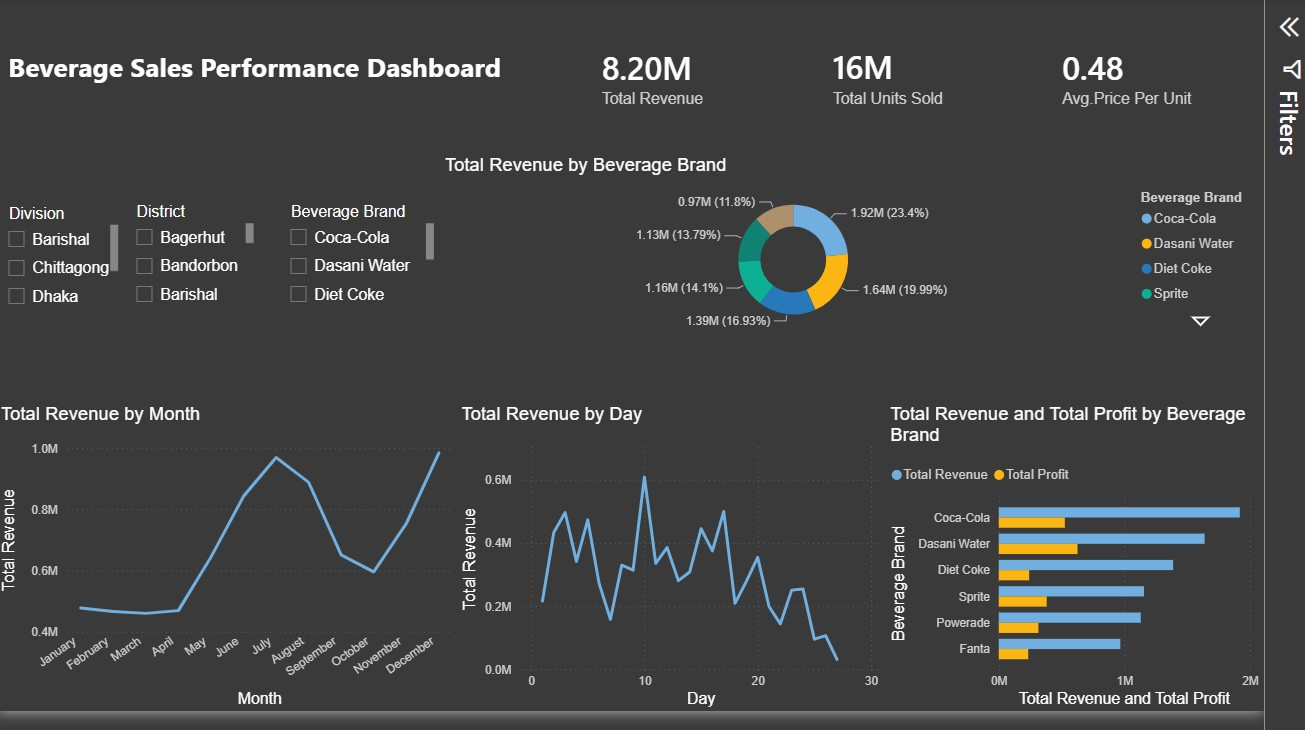

Layout of this report page (visuals, bound fields, positions):
{"tool":"powerbi","page":{"name":"Page 1","canvas":[1280,720],"ordinal":0},"visuals":[{"type":"cardVisual","fields":{"Data":["Cost.Total Revenue"]},"box":[582.1,0,232,157],"z":0,"group":"g1"},{"type":"slicer","fields":{"Values":["Data.Division"]},"box":[0,202.2,128.5,113.4],"z":0},{"type":"cardVisual","fields":{"Data":["Cost.Total Units Sold"]},"box":[814.5,0,232.4,156.9],"z":1000,"group":"g1"},{"type":"slicer","fields":{"Values":["Data.District"]},"box":[128.6,201.7,136.1,113.4],"z":1000},{"type":"cardVisual","fields":{"Data":["Cost.Avg.Price Per Unit"]},"box":[1047,0,232,157],"z":2000,"group":"g1"},{"type":"slicer","fields":{"Values":["Data.Beverage Brand"]},"box":[285,201.7,162.5,111.5],"z":2000},{"type":"group","id":"g1","title":"Group 1","box":[582.1,0,696.9,157],"z":3000},{"type":"lineChart","fields":{"Category":["Dates.Date.Variation.Date Hierarchy.Month"],"Y":["Cost.Total Revenue"]},"box":[0,408.2,464.9,311.8],"z":4000},{"type":"lineChart","fields":{"Category":["Dates.Date.Variation.Date Hierarchy.Day"],"Y":["Cost.Total Revenue"]},"box":[464.9,408.8,433.1,311.9],"z":5000},{"type":"donutChart","fields":{"Category":["Data.Beverage Brand"],"Y":["Cost.Total Revenue"]},"box":[447.9,156.9,831.5,181.4],"z":6000},{"type":"clusteredBarChart","fields":{"Category":["Data.Beverage Brand"],"Y":["Cost.Total Revenue","Cost.Total Profit"]},"box":[897.9,408.8,381.6,311.9],"z":7000},{"type":"textbox","box":[0,45.4,522.4,51.5],"z":8000}]}

Visuals, with their boxes on the page's 1280x720 design canvas (x1, y1, x2, y2). These are canvas units, not pixel positions in the 1305x730 screenshot, which may show the page scaled, cropped or inside an application window:
cardVisual - Cost.Total Revenue: 582, 0, 814, 157
slicer - Data.Division: 0, 202, 128, 316
cardVisual - Cost.Total Units Sold: 814, 0, 1047, 157
slicer - Data.District: 129, 202, 265, 315
cardVisual - Cost.Avg.Price Per Unit: 1047, 0, 1279, 157
slicer - Data.Beverage Brand: 285, 202, 448, 313
"Group 1" group: 582, 0, 1279, 157
lineChart - Dates.Date.Variation.Date Hierarchy.Month x Cost.Total Revenue: 0, 408, 465, 720
lineChart - Dates.Date.Variation.Date Hierarchy.Day x Cost.Total Revenue: 465, 409, 898, 721
donutChart - Data.Beverage Brand x Cost.Total Revenue: 448, 157, 1279, 338
clusteredBarChart - Data.Beverage Brand x Cost.Total Revenue: 898, 409, 1280, 721
textbox: 0, 45, 522, 97
